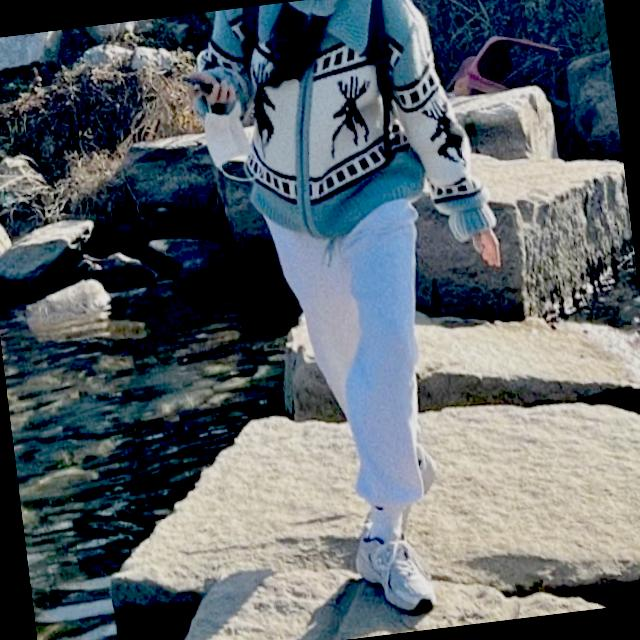cardigan: (176, 0, 497, 269)
trainingpants: (256, 192, 446, 526)
